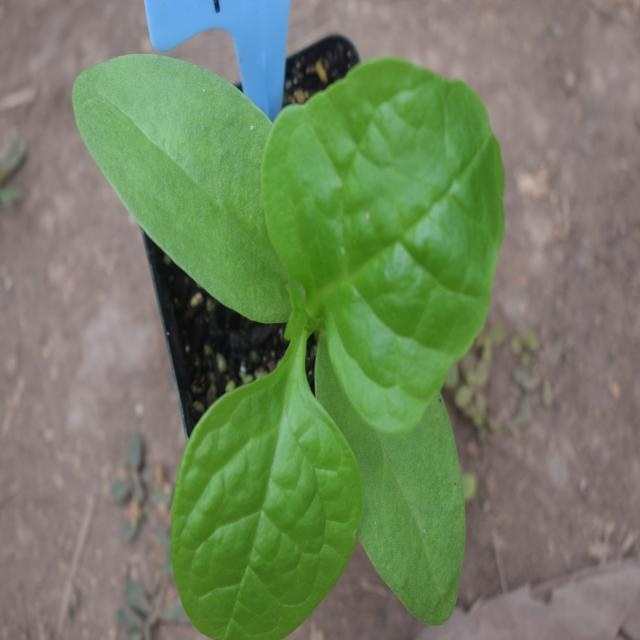Ceylon spinach: (86, 34, 501, 627)
